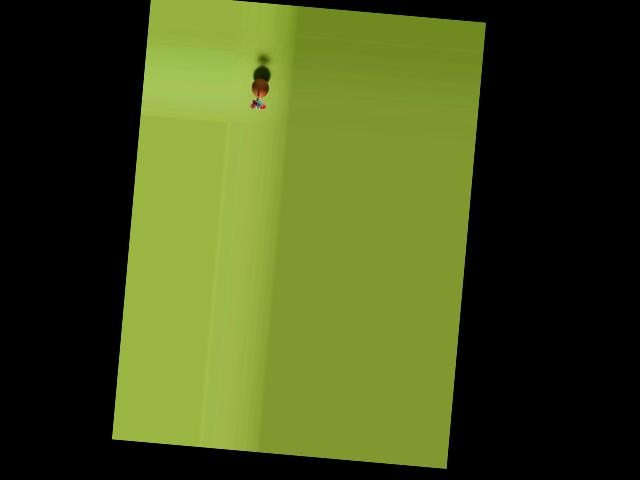egg: (250, 77, 269, 98)
